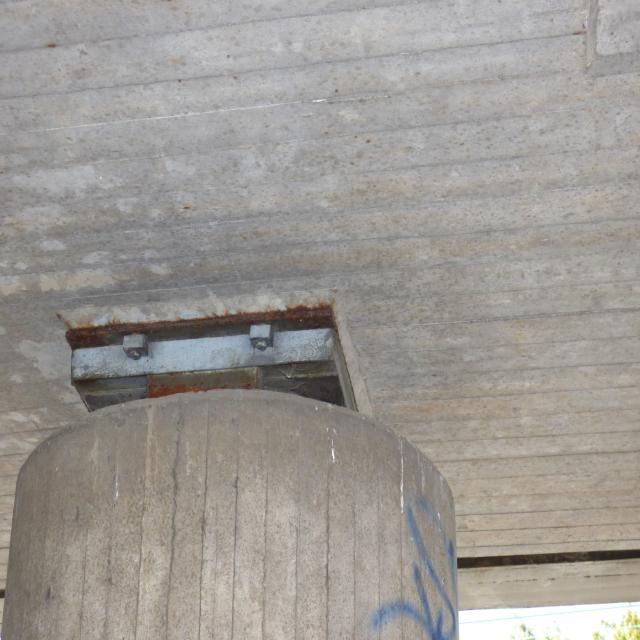corrosion: (40, 293, 381, 440)
